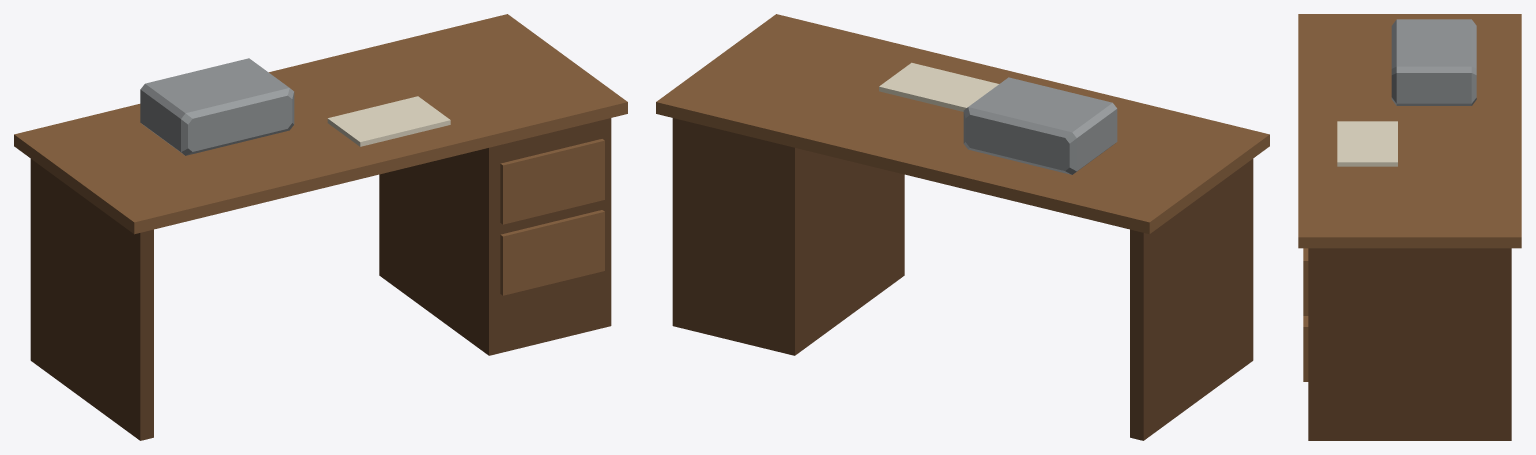
File: SM_Prop_Office_Desk_01.glb
The picture shows the model from 3 angles, left to right: view 1: azimuth 30°, elevation 25°; view 2: azimuth 150°, elevation 25°; view 3: azimuth 270°, elevation 25°; orthographic projection. The views are drawn at different scales.
Visible parts, largest first — view 1: SM_Prop_Office_Desk_01; view 2: SM_Prop_Office_Desk_01; view 3: SM_Prop_Office_Desk_01.
Boxes of the visible parts, x1,y1,x2,y2 form: SM_Prop_Office_Desk_01: (14, 14, 627, 440); SM_Prop_Office_Desk_01: (656, 14, 1269, 440); SM_Prop_Office_Desk_01: (1298, 14, 1521, 440).
Bounding box in the file's own units: 2.18 × 1.14 × 0.92.
1 material, 1 textured.
